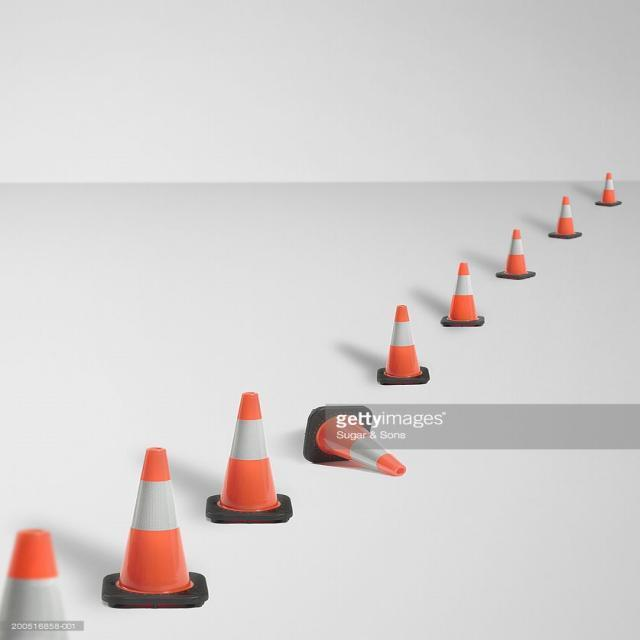traffic cone: (101, 447, 209, 609), (205, 391, 293, 525), (0, 528, 86, 640), (377, 304, 430, 386), (440, 261, 485, 328), (495, 228, 536, 280), (548, 195, 582, 240), (595, 172, 622, 207)
